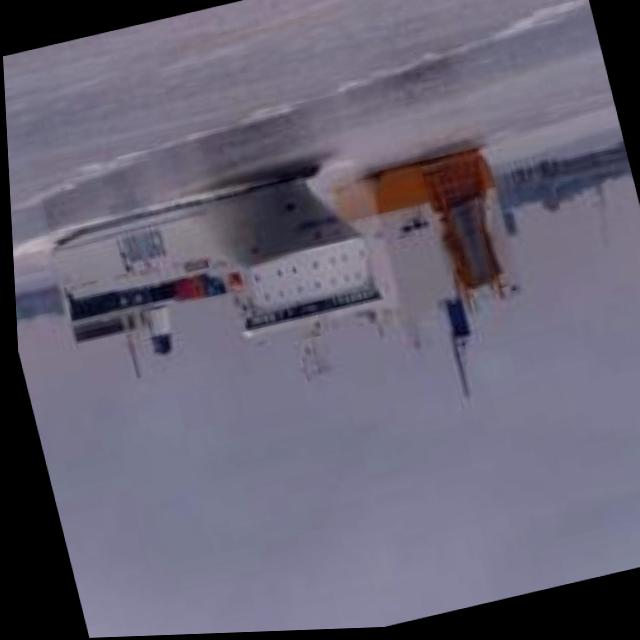ship2: (48, 169, 380, 385)
